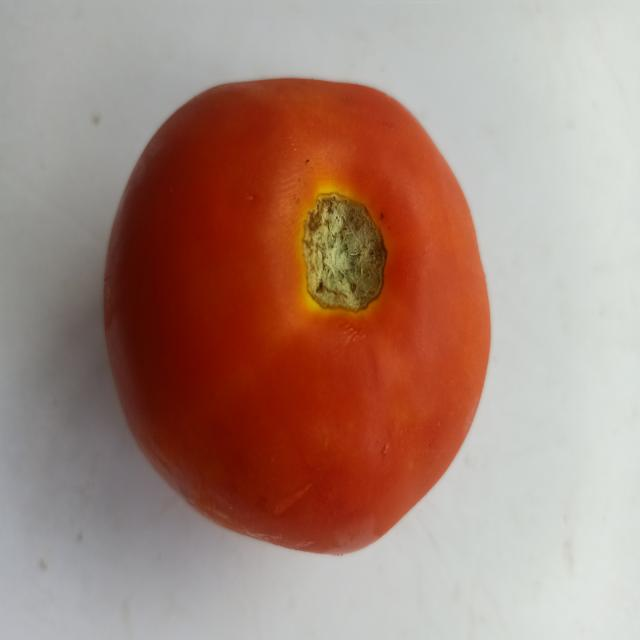Tomato: (88, 52, 520, 568)
